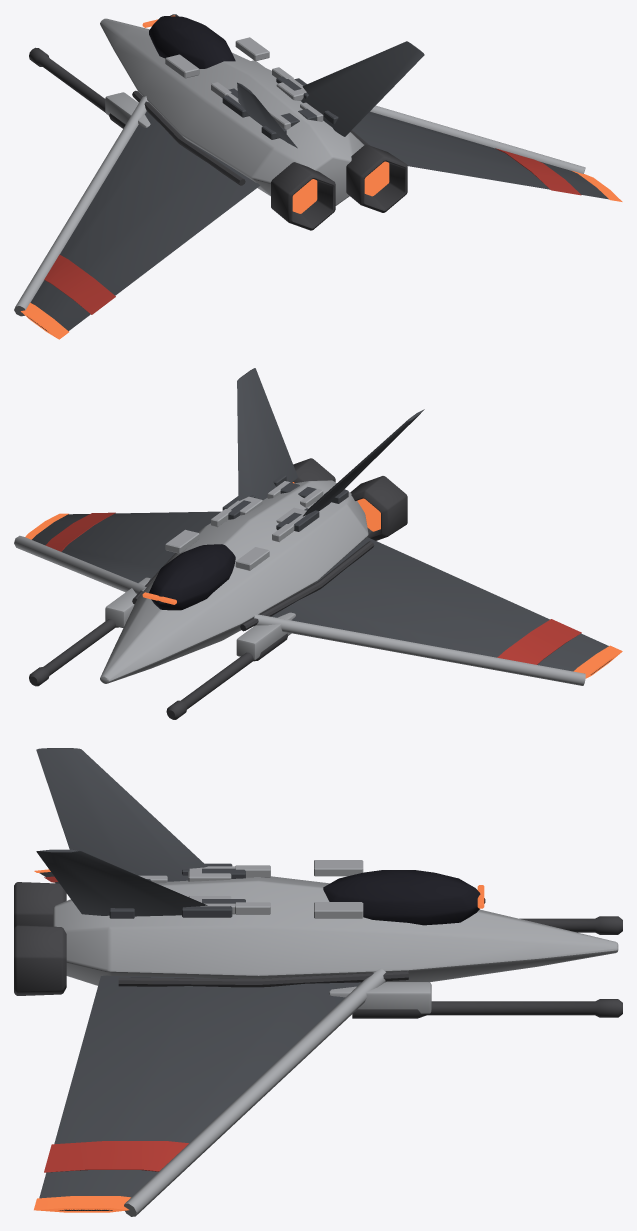
Rendered from raider.glb.
The picture shows the model from 3 angles, top to bottom: view 1: azimuth 30°, elevation 25°; view 2: azimuth 150°, elevation 25°; view 3: azimuth 270°, elevation 25°; orthographic projection. The views are drawn at different scales.
Visible parts, largest first — view 1: Wing, Body, Stabilizer, Nozzle, WingSpar, WingMark, Canopy, Cannon, SidePipe, WingTipGlow, Greeble_4, CannonMount (+2 smaller); view 2: Wing, Body, Stabilizer, WingSpar, Canopy, WingMark, Nozzle, Cannon, CannonMount, SidePipe, Greeble_4, WingTipGlow; view 3: Body, Wing, Stabilizer, Canopy, WingSpar, Nozzle, Cannon, WingMark, SidePipe, CannonMount, Greeble_4, WingTipGlow (+2 smaller).
Part boxes in pixels (x1,y1,x2,y2): Wing: (27, 111, 608, 331); Body: (100, 18, 364, 205); Stabilizer: (237, 41, 424, 148); Nozzle: (271, 144, 407, 230); WingSpar: (14, 96, 585, 316); WingMark: (44, 148, 581, 314); Canopy: (149, 16, 235, 68); Cannon: (29, 14, 178, 128); SidePipe: (132, 90, 369, 185); WingTipGlow: (21, 170, 622, 339); Greeble_4: (165, 37, 269, 78); CannonMount: (105, 60, 264, 127); Wing: (32, 511, 611, 674); Body: (100, 480, 368, 683); Stabilizer: (237, 368, 424, 516); WingSpar: (14, 535, 585, 685); Canopy: (149, 544, 235, 610); WingMark: (45, 512, 581, 664); Nozzle: (293, 458, 407, 540); Cannon: (29, 619, 287, 719); CannonMount: (105, 577, 295, 659); SidePipe: (132, 541, 374, 631); Greeble_4: (165, 529, 269, 570); WingTipGlow: (25, 513, 622, 678); Body: (53, 876, 618, 985); Wing: (39, 872, 361, 1210); Stabilizer: (36, 748, 207, 916); Canopy: (323, 870, 485, 925); WingSpar: (124, 968, 387, 1216); Nozzle: (14, 882, 66, 995); Cannon: (352, 916, 622, 1018); WingMark: (44, 876, 188, 1172); SidePipe: (118, 971, 408, 987); CannonMount: (329, 982, 431, 1013); Greeble_4: (314, 860, 363, 918); WingTipGlow: (34, 869, 130, 1212).
Size of the model in its own units: 8.71 by 2.94 by 6.52.
